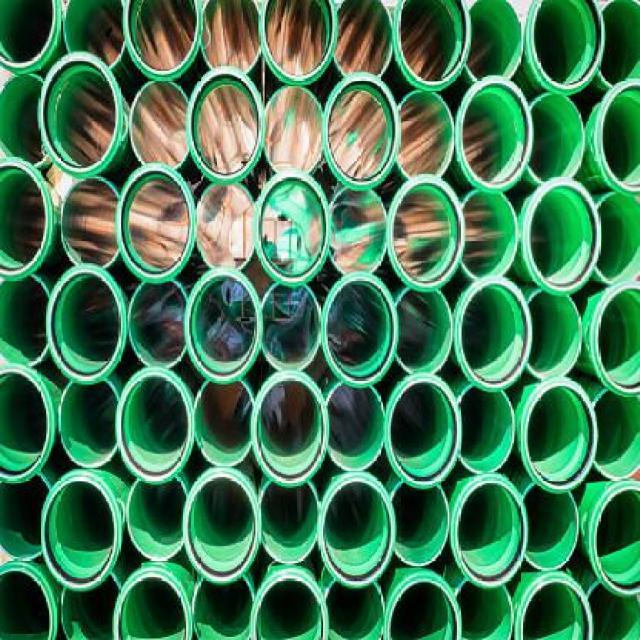pipe: (38, 53, 120, 176), (116, 163, 196, 283), (46, 268, 126, 385), (322, 72, 401, 190), (186, 68, 264, 186), (455, 77, 534, 193), (185, 269, 264, 384), (254, 171, 332, 287), (322, 273, 400, 389), (523, 179, 600, 296), (40, 476, 117, 592), (117, 371, 194, 486), (253, 374, 330, 488), (183, 471, 260, 585), (390, 179, 466, 294), (319, 479, 396, 589), (457, 280, 532, 392), (452, 475, 526, 588), (385, 377, 461, 487), (523, 383, 598, 493), (394, 0, 472, 89), (259, 0, 338, 84), (0, 157, 53, 281), (530, 0, 604, 88), (123, 0, 202, 79), (0, 369, 50, 484), (113, 568, 192, 639), (59, 177, 120, 268), (325, 380, 386, 471), (527, 93, 586, 186), (591, 485, 640, 596), (129, 82, 190, 171), (263, 85, 324, 174), (396, 89, 456, 179), (389, 477, 449, 566), (58, 382, 120, 468), (196, 183, 257, 270), (522, 482, 580, 573), (262, 283, 321, 372), (460, 191, 518, 281), (251, 573, 330, 639), (258, 479, 320, 563), (328, 186, 387, 274), (457, 385, 516, 473), (194, 379, 253, 466), (596, 80, 640, 196), (126, 478, 187, 560), (395, 290, 453, 376), (129, 282, 188, 366), (0, 73, 51, 170), (526, 289, 580, 380), (596, 283, 640, 393), (465, 0, 524, 82), (0, 473, 54, 562), (0, 276, 52, 366), (388, 577, 464, 638), (519, 577, 594, 638), (334, 0, 393, 76), (0, 561, 58, 638), (0, 0, 60, 74), (201, 0, 261, 72), (63, 0, 126, 68), (594, 388, 640, 480), (191, 573, 255, 639), (596, 191, 640, 286), (60, 573, 121, 640), (323, 577, 384, 638), (454, 579, 515, 638)
